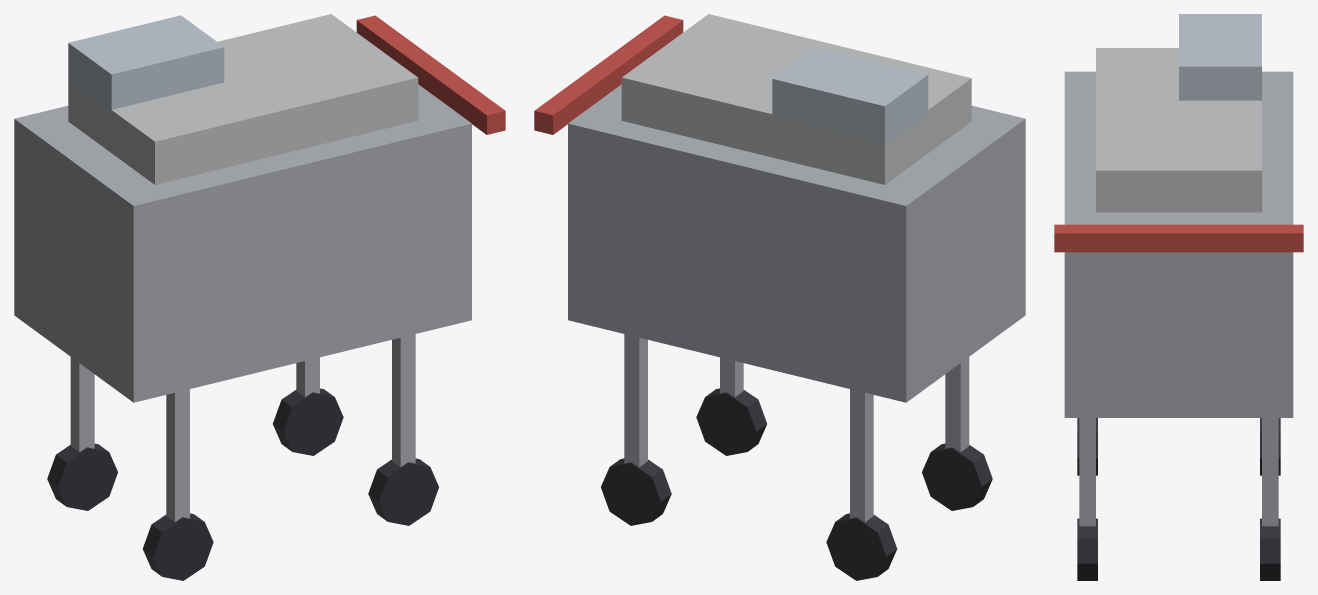
Rendered from Market_Arabasi.glb.
3 views of the same model, side by side, from view 1: azimuth 30°, elevation 25°; view 2: azimuth 150°, elevation 25°; view 3: azimuth 270°, elevation 25° (orthographic). The views are drawn at different scales.
Parts seen in each view (by area): view 1: Market_Arabasi; view 2: Market_Arabasi; view 3: Market_Arabasi.
Part boxes in pixels (bbox=[...]): Market_Arabasi: bbox=[14, 14, 505, 580]; Market_Arabasi: bbox=[534, 14, 1025, 580]; Market_Arabasi: bbox=[1054, 14, 1303, 580].
Size of the model in its own units: 0.975 by 1.2 by 0.6.
